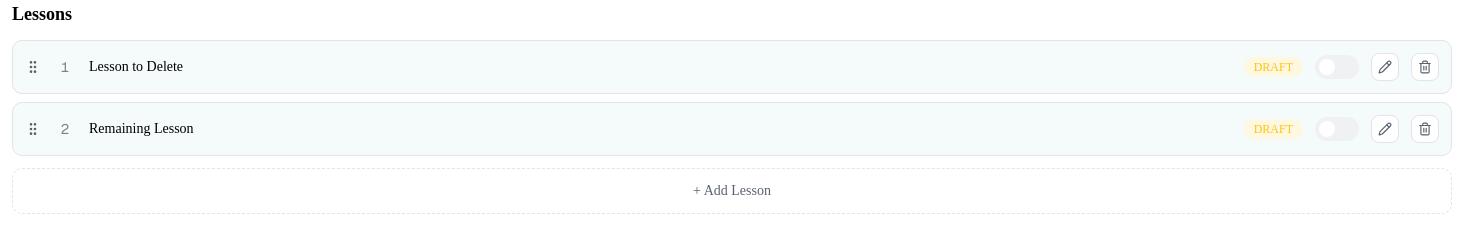
Test: LessonList › deletes a lesson via DELETE API on confirmation
The width and height of the screenshot is (1464, 231).
Click the button with test id "delete-lesson-l-1" at (1425, 67), box [1411,53,1439,81]
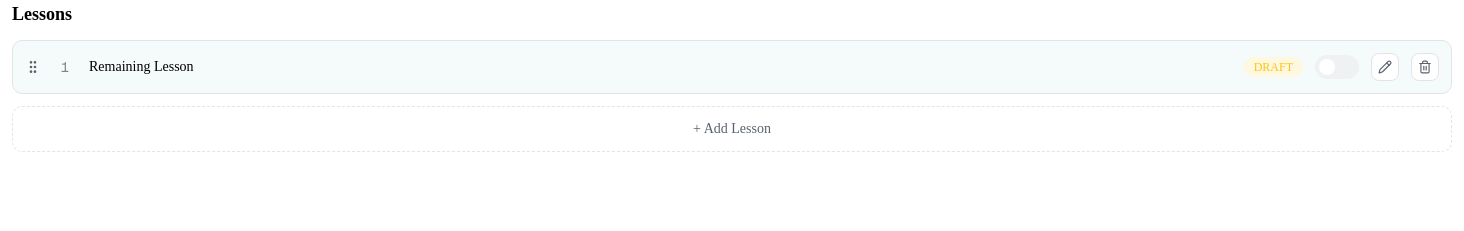
Expected: the text "Remaining Lesson" is shown, [89,59,194,74]
Result: the text "Lesson to Delete" is gone
